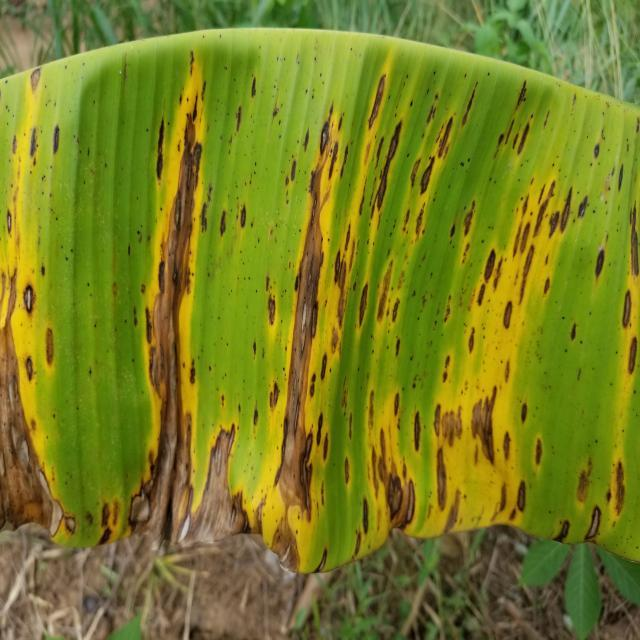Early_rust: (0, 60, 640, 574)
